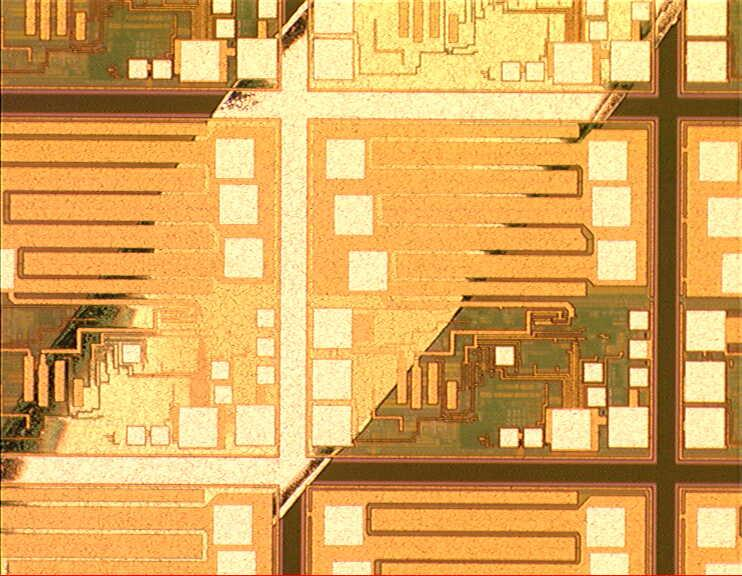COATING BAD: (1, 1, 696, 576)
